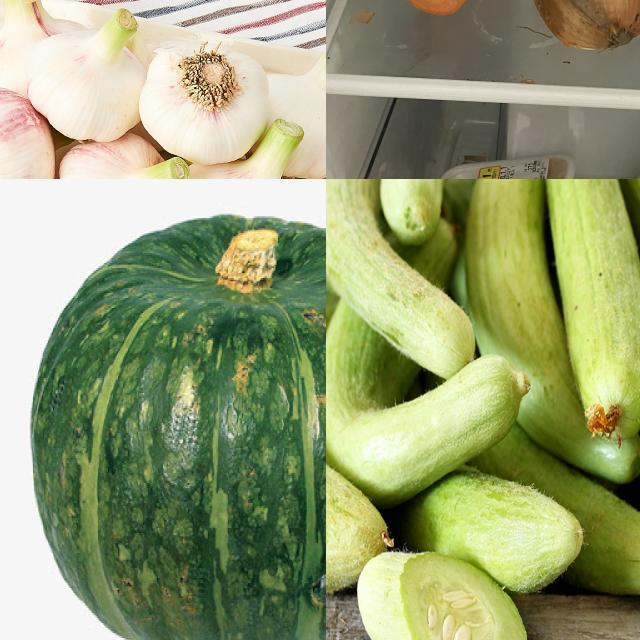cucumber: (476, 180, 640, 491), (327, 312, 531, 505), (538, 180, 640, 428), (410, 463, 584, 586), (327, 304, 393, 596), (363, 548, 534, 640), (378, 180, 470, 233)
garlic: (22, 9, 150, 149), (140, 41, 271, 167), (245, 44, 327, 180), (170, 117, 314, 180), (1, 1, 85, 95), (58, 129, 194, 180), (1, 84, 63, 180)
onion: (530, 1, 640, 56)
